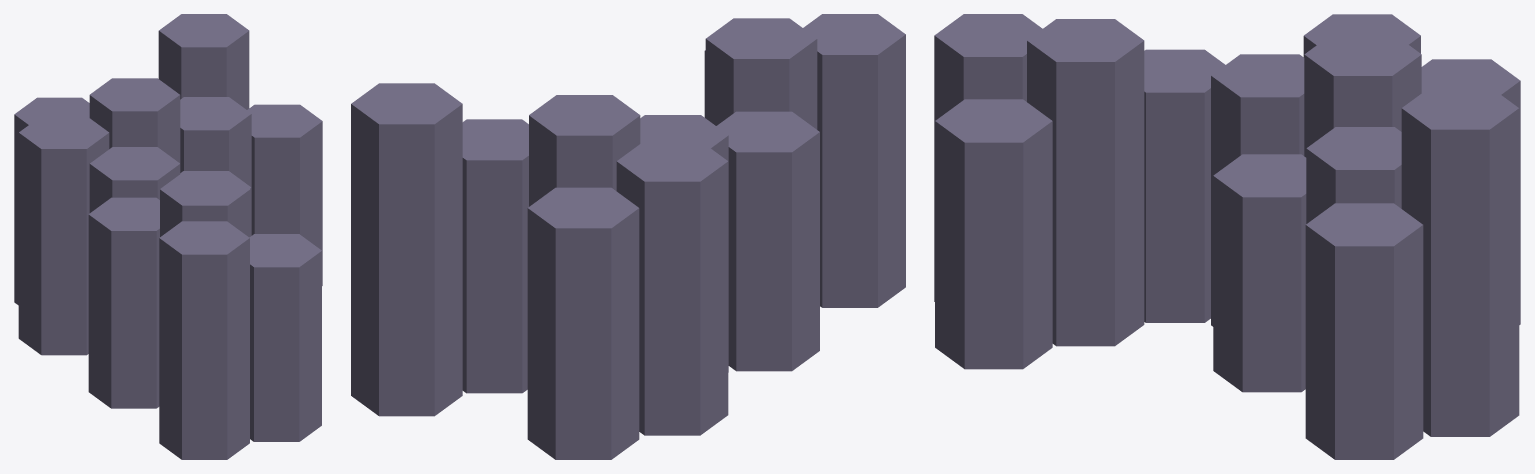
The model's file is rock-2.glb.
3 views of the same model, side by side, from view 1: azimuth 30°, elevation 25°; view 2: azimuth 150°, elevation 25°; view 3: azimuth 270°, elevation 25° (orthographic). The views are drawn at different scales.
Visible parts, largest first — view 1: basaltRocksPhysicalStatic.001; view 2: basaltRocksPhysicalStatic.001; view 3: basaltRocksPhysicalStatic.001.
Part boxes in pixels (box(x1,y1,x2,y2)): basaltRocksPhysicalStatic.001: box(14, 14, 322, 459); basaltRocksPhysicalStatic.001: box(351, 14, 905, 459); basaltRocksPhysicalStatic.001: box(934, 14, 1520, 459).
Size of the model in its own units: 5.42 by 4.32 by 7.46.
Materials: 1 (1 with a texture image).
